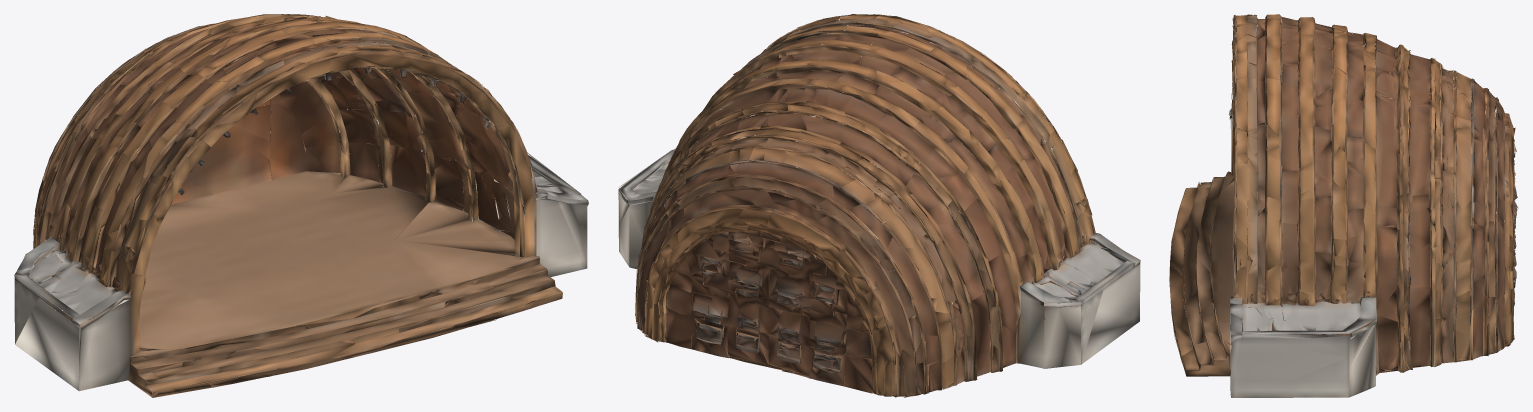
Rendered from bandshell.glb.
The picture shows the model from 3 angles, left to right: view 1: azimuth 30°, elevation 25°; view 2: azimuth 150°, elevation 25°; view 3: azimuth 270°, elevation 25°; orthographic projection. The views are drawn at different scales.
Parts seen in each view (by area): view 1: LO.001; view 2: LO.001; view 3: LO.001.
Boxes of the visible parts, x1,y1,x2,y2 form: LO.001: (14,14,588,397); LO.001: (618,14,1140,397); LO.001: (1169,14,1518,397).
Size of the model in its own units: 24.07 by 12.41 by 15.58.
Materials: 1 (1 with a texture image).
